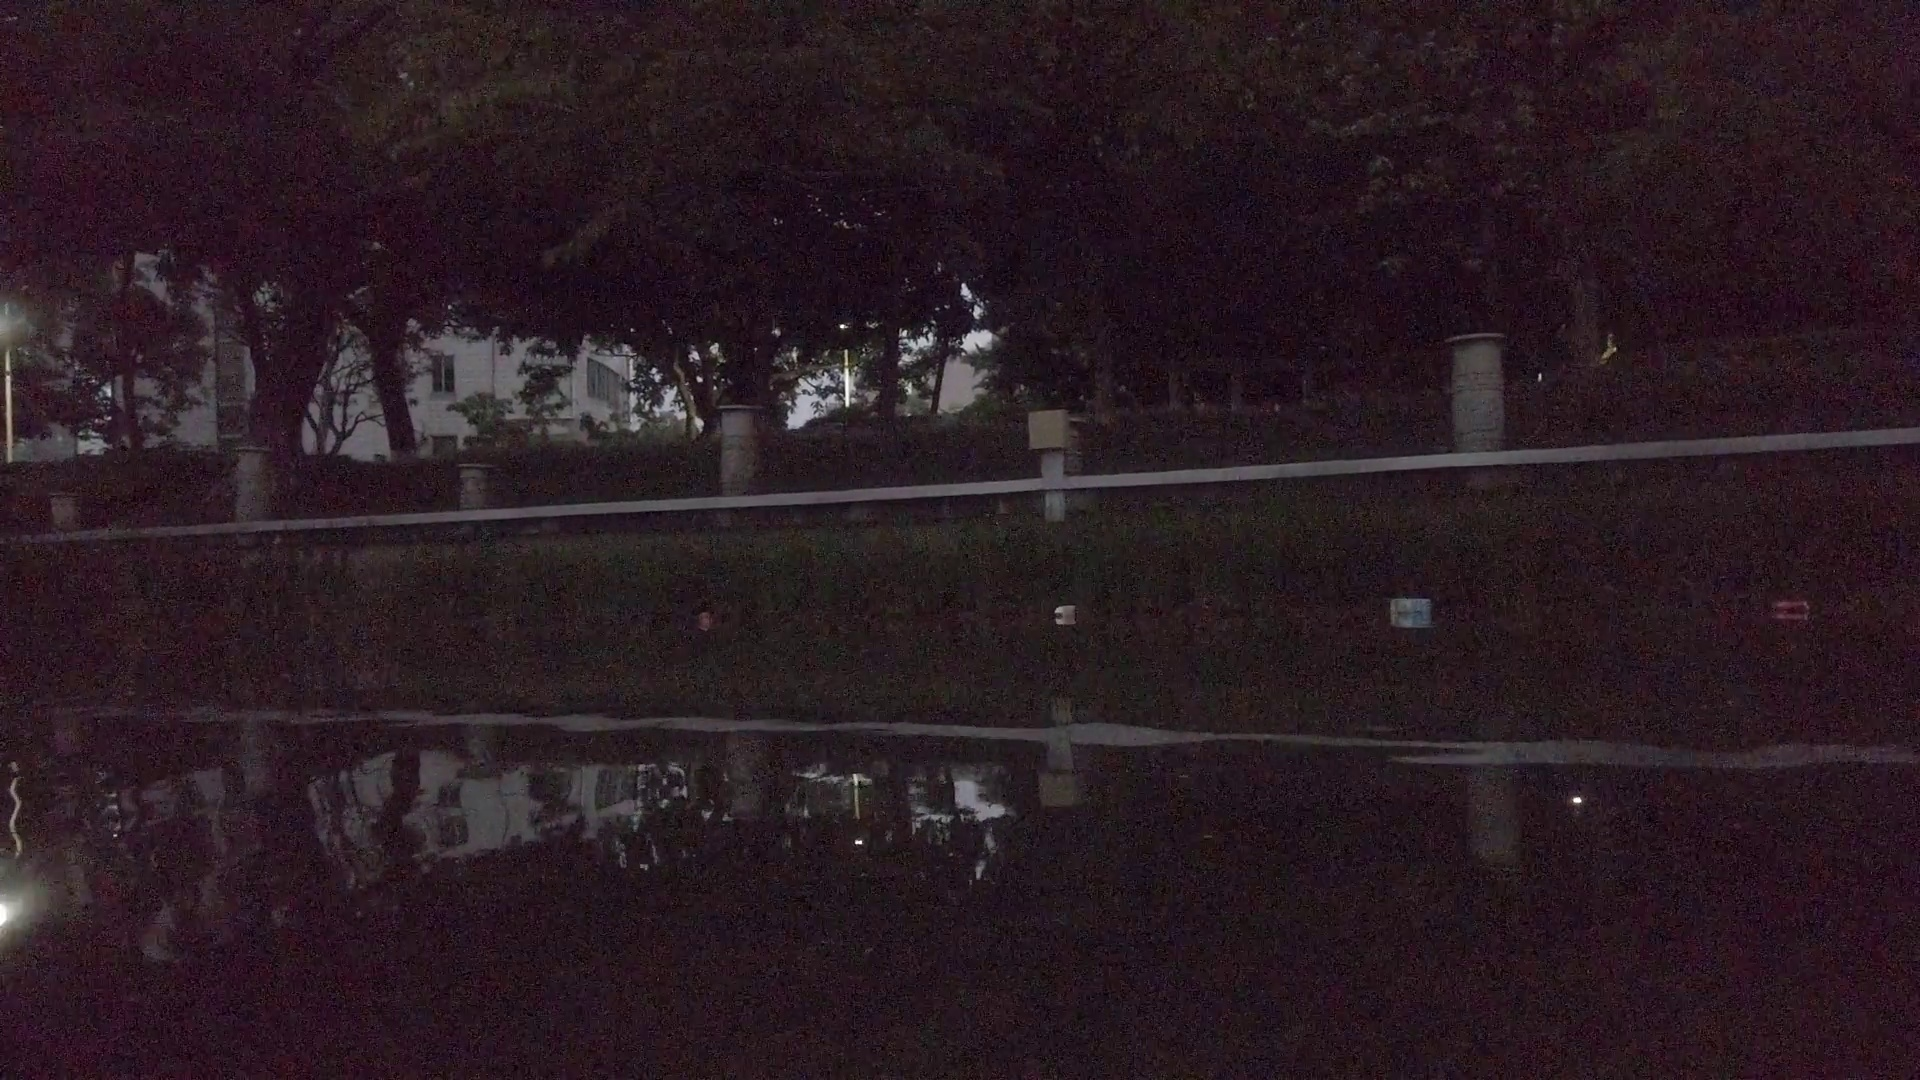bottle: (1770, 596, 1809, 617), (694, 607, 719, 637)
carton: (1389, 596, 1432, 615), (1052, 603, 1080, 625)
